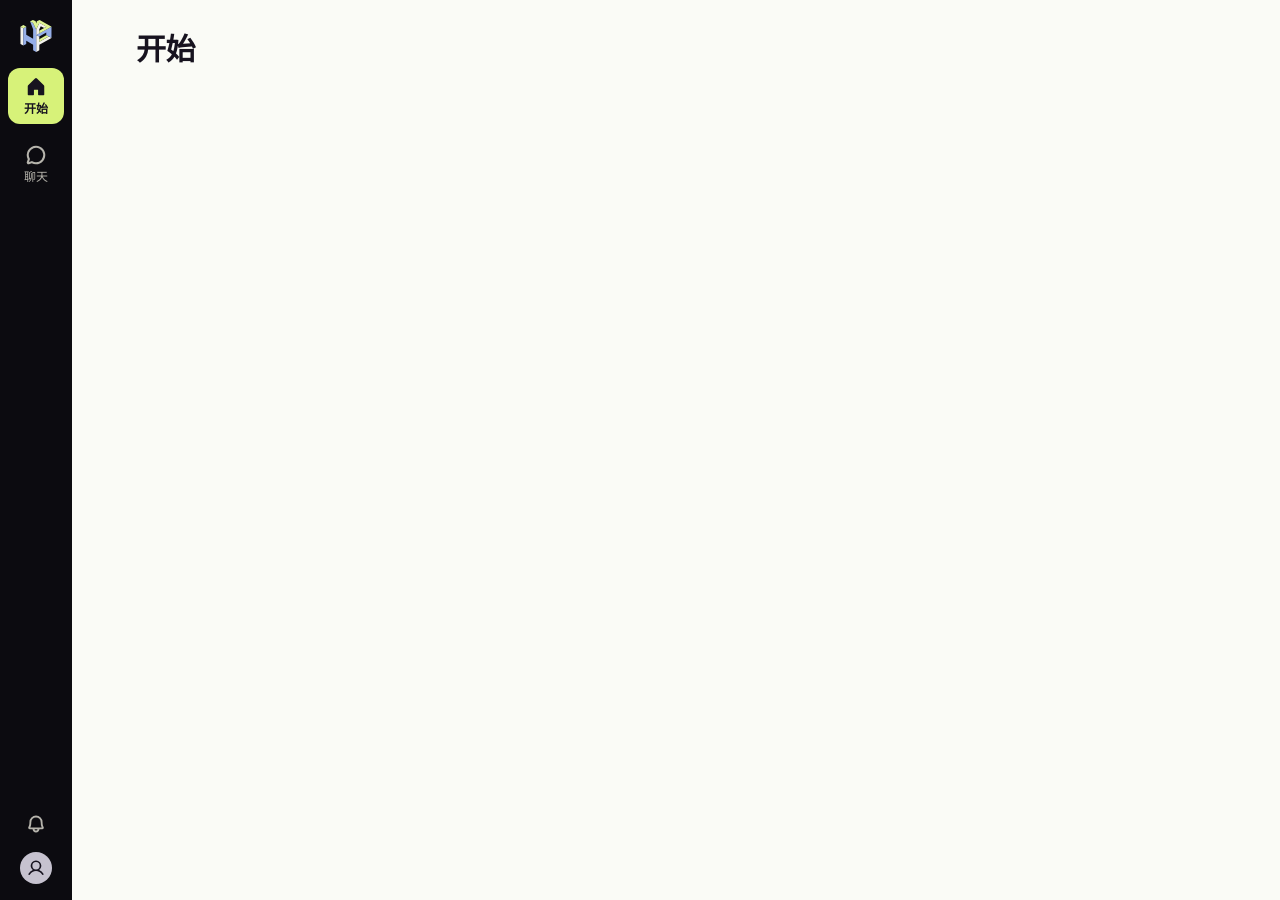
it: composition-owned state seed overlays the reducer state › projects seeded targets without touching the reducer authority
The width and height of the screenshot is (1280, 900).
Click the button "聊天" at [36, 164], box [8,136,64,192]
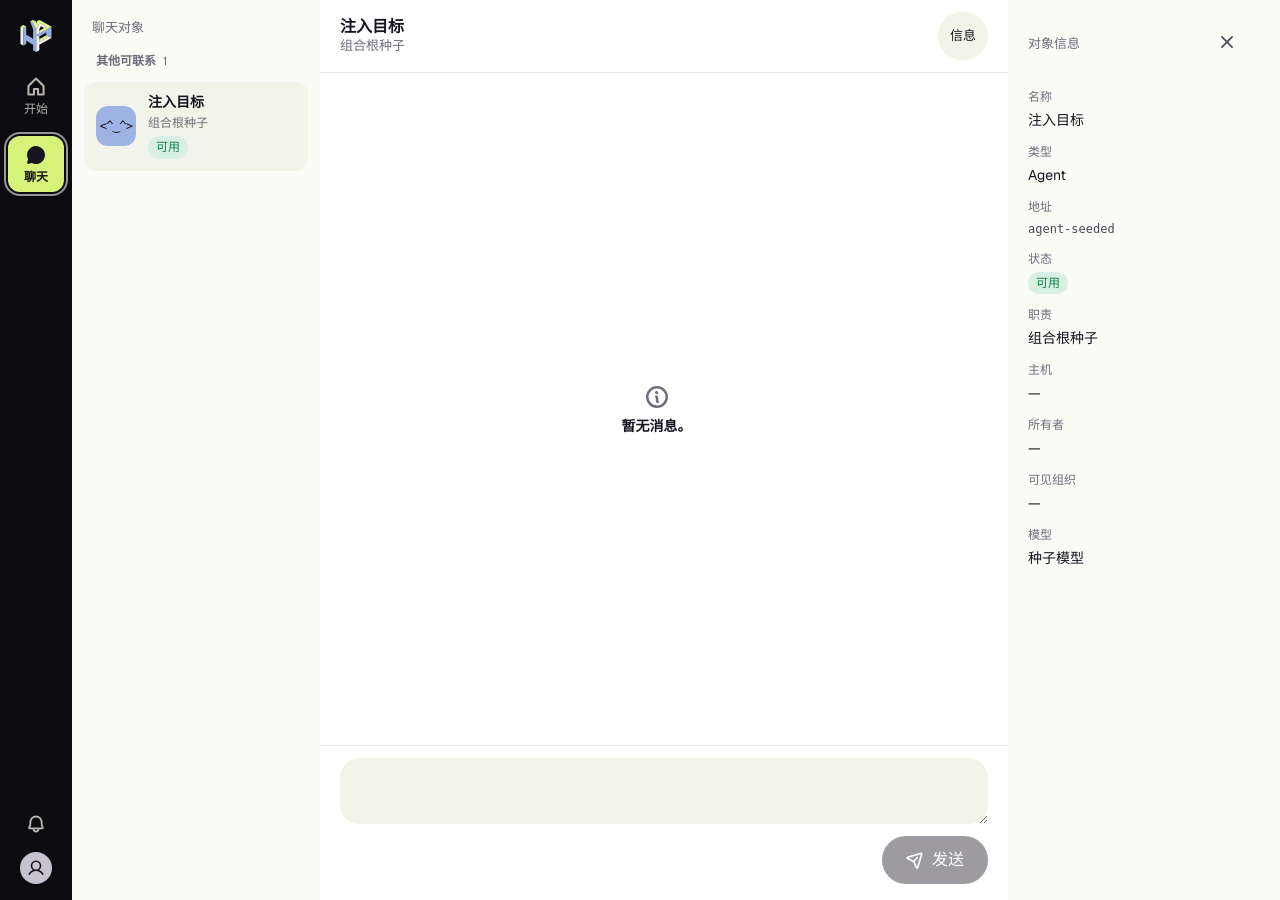
Check: the button "<^‿^> 注入目标 组合根种子 可用" is shown, box [84,82,308,171]
